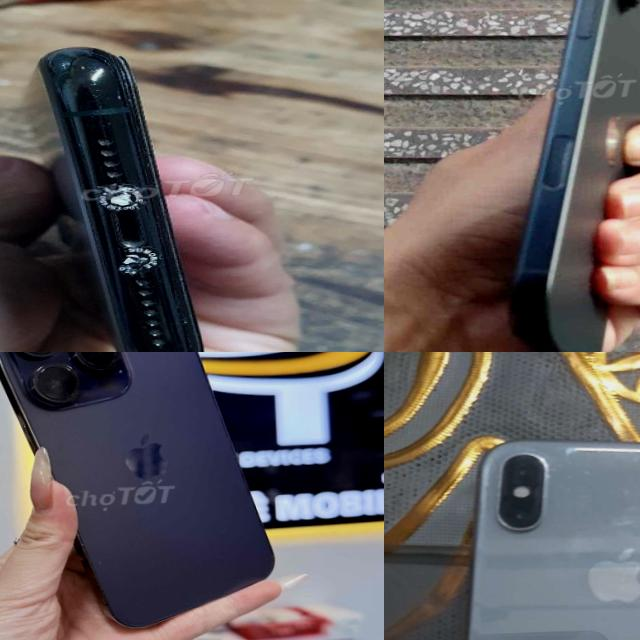gen_11: (27, 47, 202, 352)
gen_14: (0, 352, 284, 635)
gen_16: (482, 0, 640, 352)
gen_x_xs: (441, 420, 640, 640)
